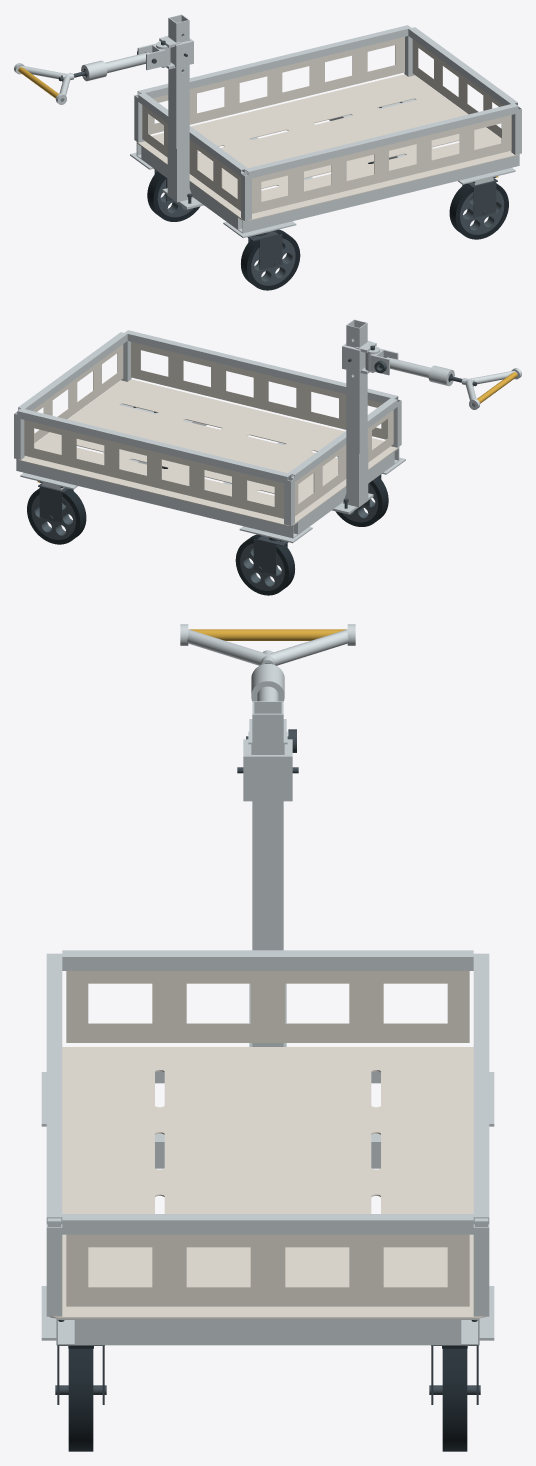
Rendered from goose_low_profile_stock_cart_01.glb.
3 views of the same model, one above another, from view 1: azimuth 30°, elevation 25°; view 2: azimuth 150°, elevation 25°; view 3: azimuth 270°, elevation 25° (orthographic). The views are drawn at different scales.
Parts seen in each view (by area): view 1: goose_low_profile_stock_cart_01 (×5); view 2: goose_low_profile_stock_cart_01 (×5); view 3: goose_low_profile_stock_cart_01 (×5).
Boxes of the visible parts, x1,y1,x2,y2 form: goose_low_profile_stock_cart_01 (×5): (14,14,521,290); goose_low_profile_stock_cart_01 (×5): (14,319,521,595); goose_low_profile_stock_cart_01 (×5): (41,624,494,1451).
Bounding box in the file's own units: 1.01 × 0.55 × 0.46.
